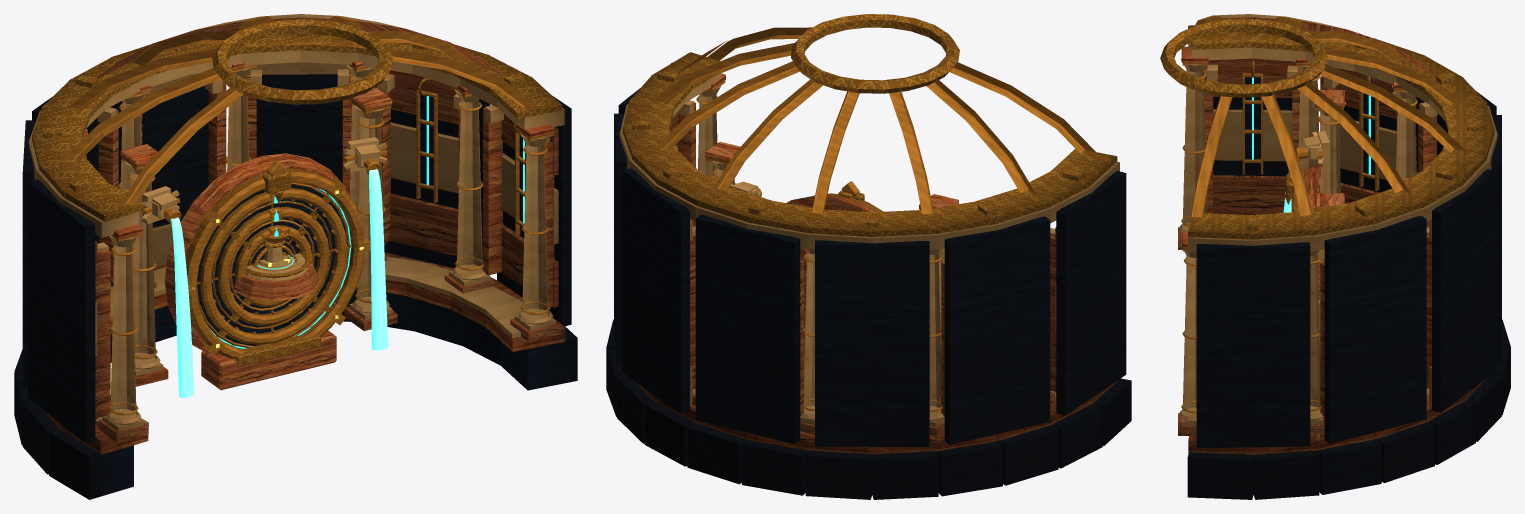
File: env_vault_chamber.glb
The picture shows the model from 3 angles, left to right: view 1: azimuth 30°, elevation 25°; view 2: azimuth 150°, elevation 25°; view 3: azimuth 270°, elevation 25°; orthographic projection. The views are drawn at different scales.
Parts seen in each view (by area): view 1: Vault_ChamberRotunda, Vault_OuterFrame, Vault_Ring0, Vault_Waterfalls, Vault_Ring1, Vault_HeroDais, Vault_Ring2, Vault_Brazier; view 2: Vault_ChamberRotunda, Vault_OuterFrame; view 3: Vault_ChamberRotunda, Vault_OuterFrame.
Part boxes in pixels (bbox=[...]): Vault_ChamberRotunda: bbox=[14, 14, 577, 499]; Vault_OuterFrame: bbox=[164, 153, 370, 390]; Vault_Ring0: bbox=[200, 188, 347, 344]; Vault_Waterfalls: bbox=[171, 168, 388, 397]; Vault_Ring1: bbox=[218, 206, 329, 325]; Vault_HeroDais: bbox=[232, 252, 320, 301]; Vault_Ring2: bbox=[235, 225, 312, 307]; Vault_Brazier: bbox=[259, 228, 290, 267]; Vault_ChamberRotunda: bbox=[606, 14, 1131, 499]; Vault_OuterFrame: bbox=[786, 181, 883, 364]; Vault_ChamberRotunda: bbox=[1160, 14, 1510, 499]; Vault_OuterFrame: bbox=[1284, 164, 1320, 316].
Size of the model in its own units: 16.32 by 11.33 by 10.75.
9 materials, 5 textured.
